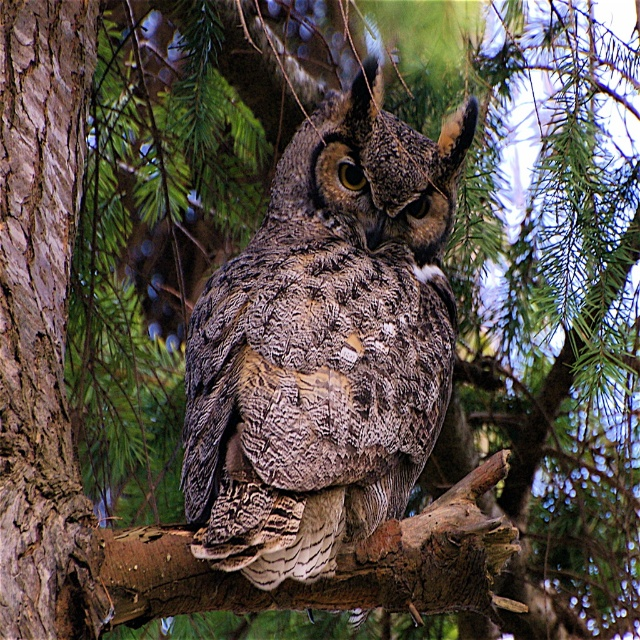Owl: (170, 49, 480, 591)
